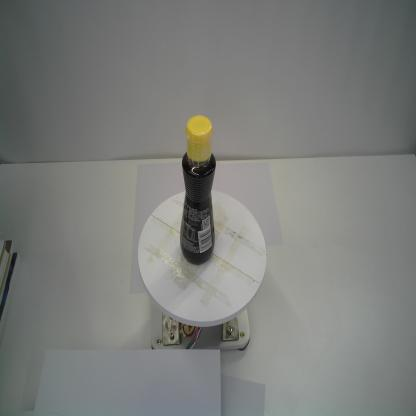Seasoner: (177, 112, 218, 265)
